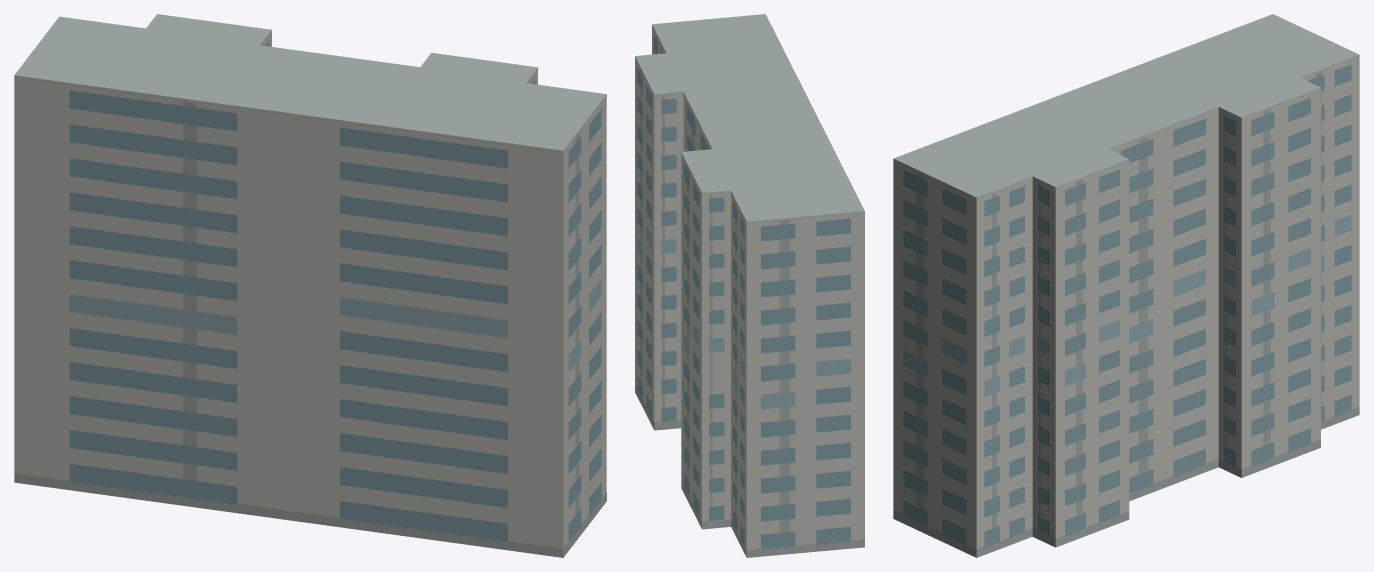
File: residential-03843c3d-35ed-432b-bcdf-4dbf5e51a2cf.glb
The picture shows the model from 3 angles, left to right: view 1: azimuth 30°, elevation 25°; view 2: azimuth 150°, elevation 25°; view 3: azimuth 270°, elevation 25°; orthographic projection. The views are drawn at different scales.
Parts seen in each view (by area): view 1: residential-03843c3d-35ed-432b-bcdf-4dbf5e51a2cf.tmp; view 2: residential-03843c3d-35ed-432b-bcdf-4dbf5e51a2cf.tmp; view 3: residential-03843c3d-35ed-432b-bcdf-4dbf5e51a2cf.tmp.
Part boxes in pixels (bbox=[...]): residential-03843c3d-35ed-432b-bcdf-4dbf5e51a2cf.tmp: bbox=[14, 14, 606, 557]; residential-03843c3d-35ed-432b-bcdf-4dbf5e51a2cf.tmp: bbox=[635, 14, 864, 557]; residential-03843c3d-35ed-432b-bcdf-4dbf5e51a2cf.tmp: bbox=[893, 14, 1359, 557].
Bounding box in the file's own units: 40 × 36.6 × 42.92.
